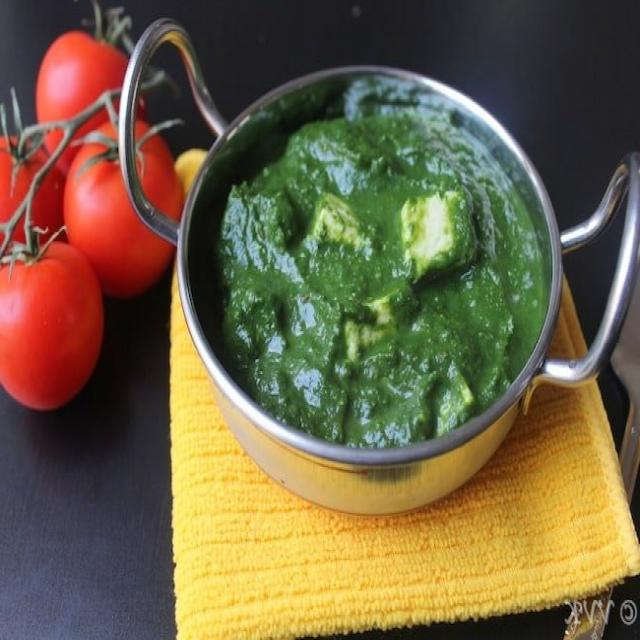Palak Paneer: (204, 101, 557, 450)
